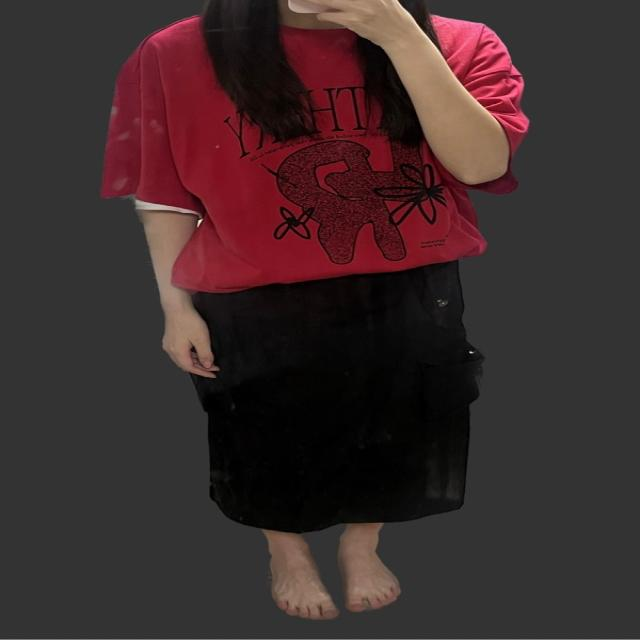shortsleeve: (105, 11, 527, 292)
skirt: (189, 258, 480, 534)
